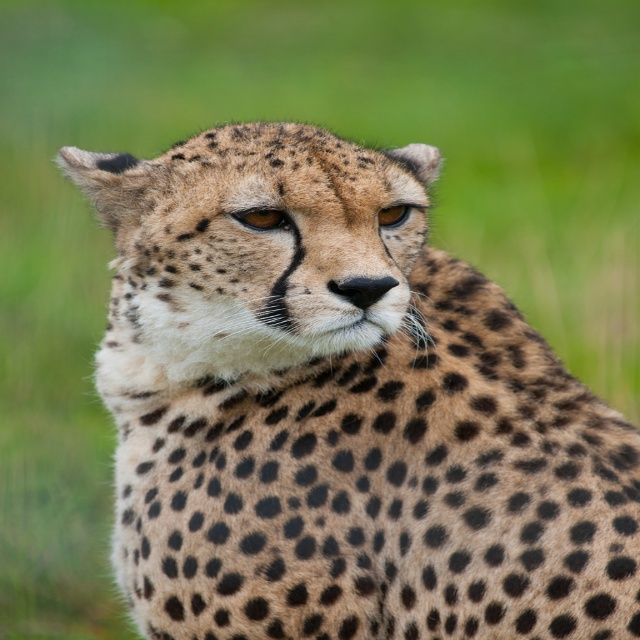Cheetah: (48, 118, 639, 640)
